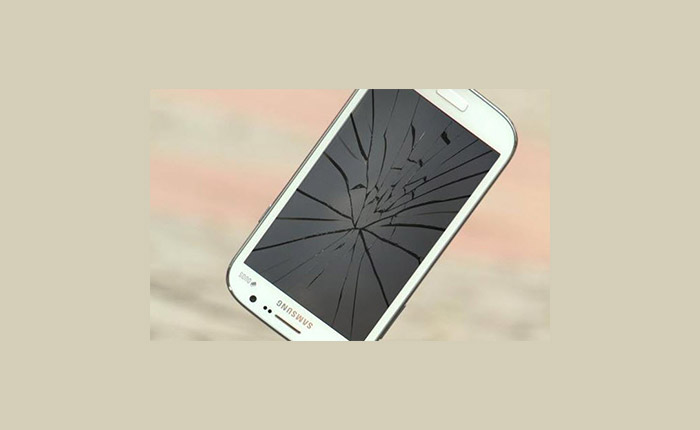Phone: (226, 89, 519, 341)
